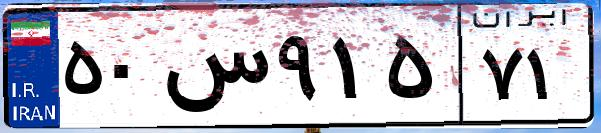0: (110, 28, 158, 98)
1: (330, 28, 385, 110), (525, 38, 570, 115)
5: (385, 28, 445, 110), (57, 26, 110, 100)
7: (475, 38, 525, 113)
9: (270, 28, 330, 110)
س: (158, 20, 270, 120)
